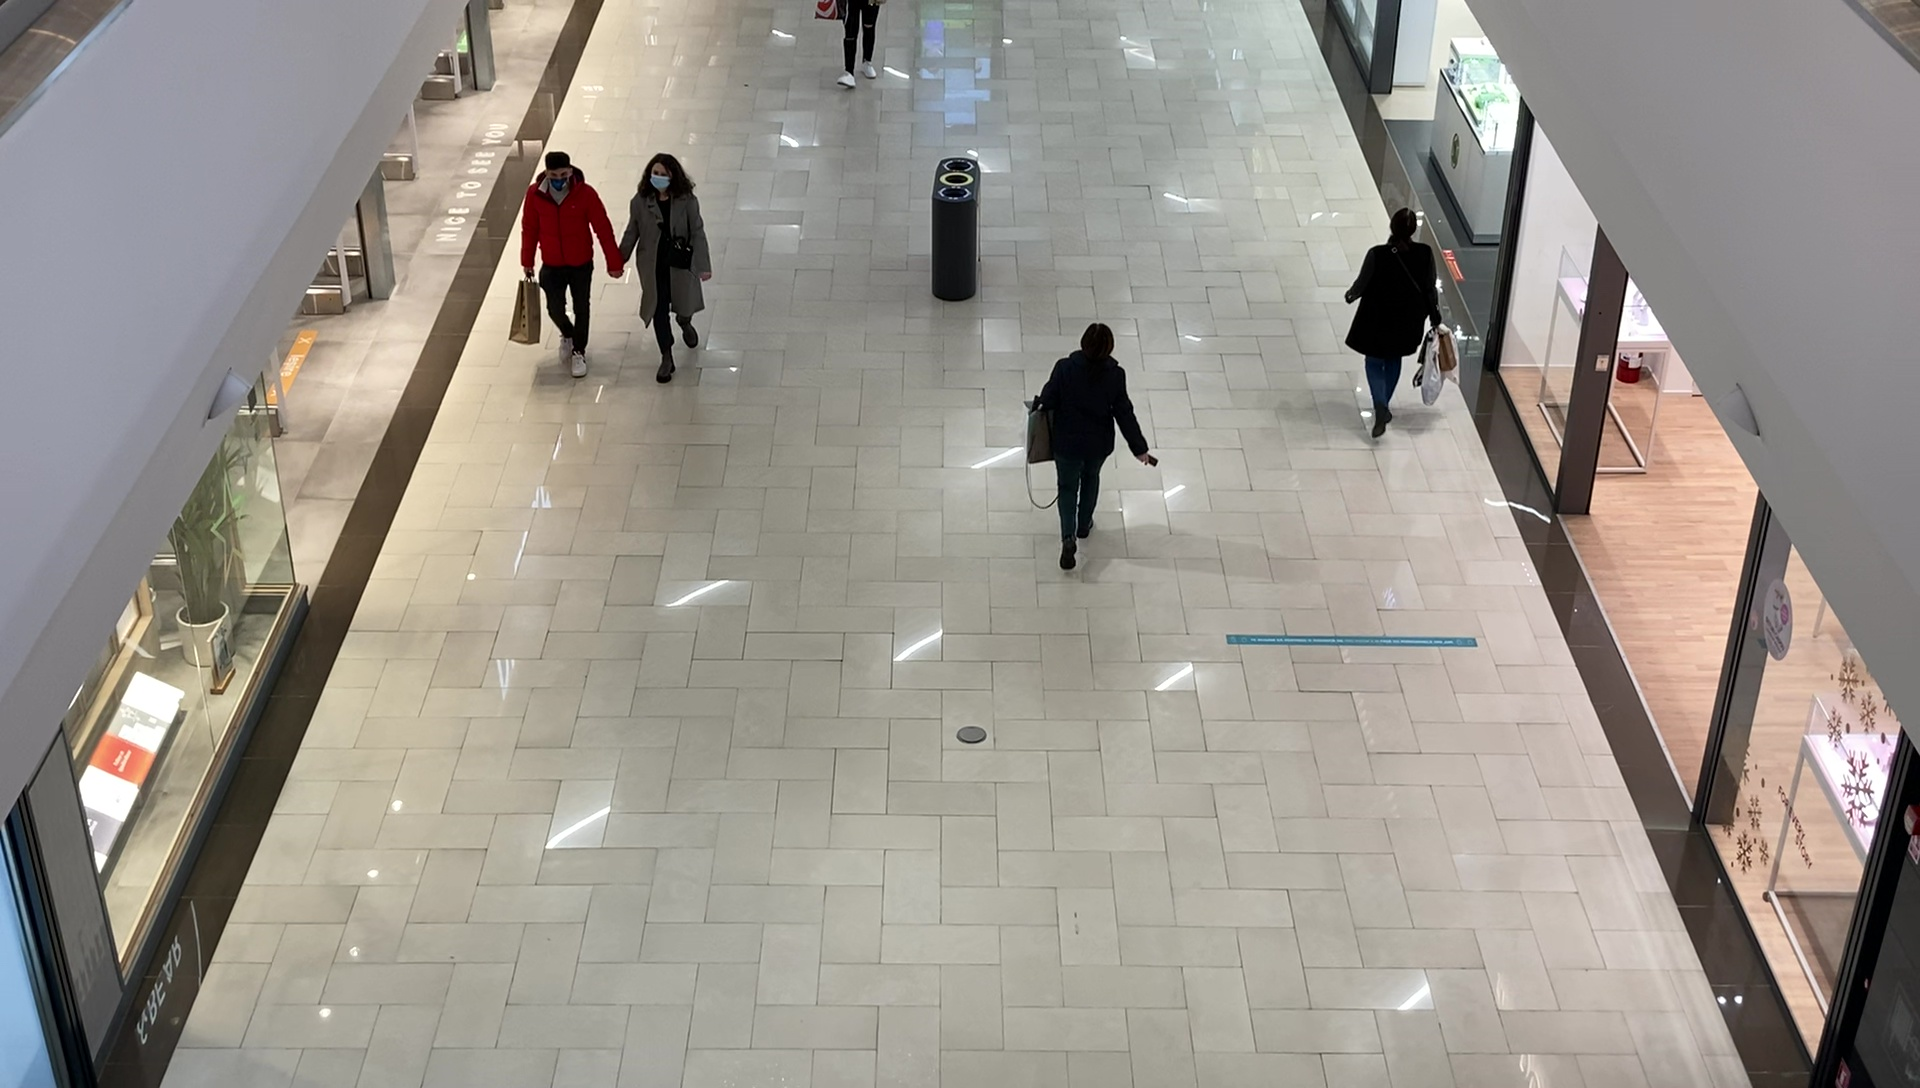person: (1037, 322, 1161, 571), (521, 152, 621, 379), (1345, 208, 1443, 440), (619, 150, 713, 382), (816, 1, 889, 88)
